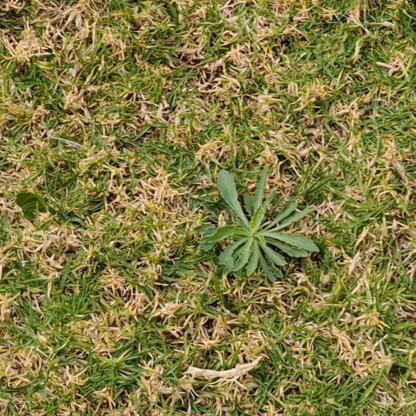Weeds: (193, 169, 320, 284)
